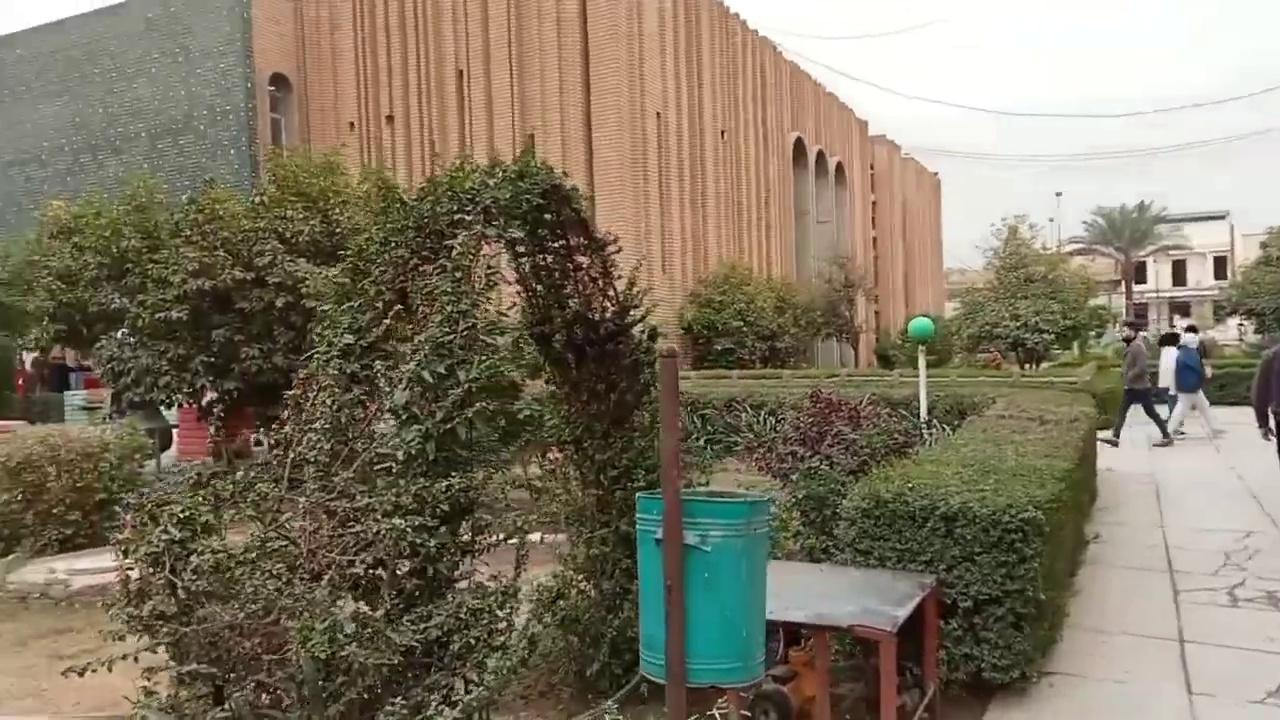person: (1108, 325, 1173, 447), (1165, 324, 1220, 438), (1251, 343, 1279, 461), (1156, 331, 1187, 436)
tree: (25, 134, 672, 717), (91, 142, 378, 463), (507, 222, 664, 696), (3, 171, 203, 453), (942, 218, 1114, 371), (676, 256, 823, 371), (1065, 197, 1171, 328), (807, 252, 876, 368), (1214, 222, 1279, 343)
